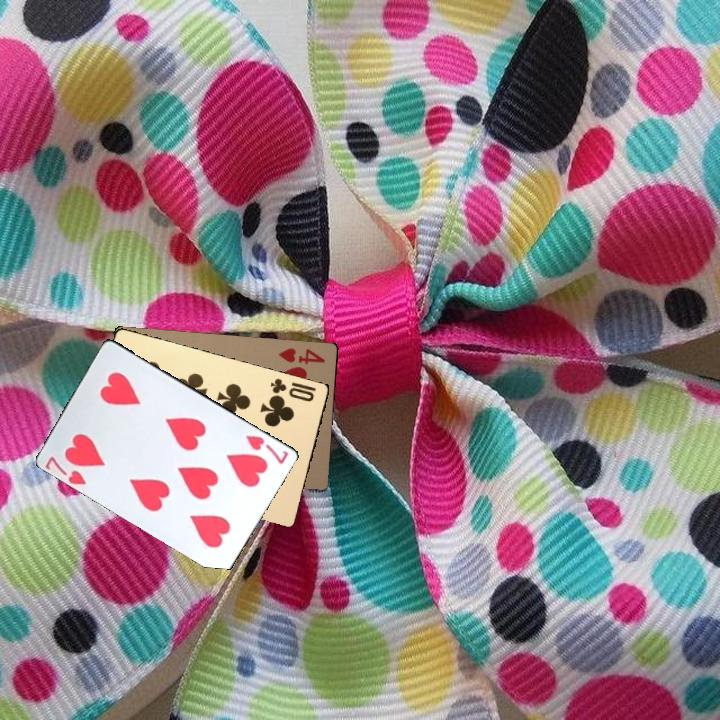10c: (266, 374, 318, 404)
4h: (275, 344, 328, 366)
7h: (241, 431, 291, 467), (41, 452, 89, 487)
